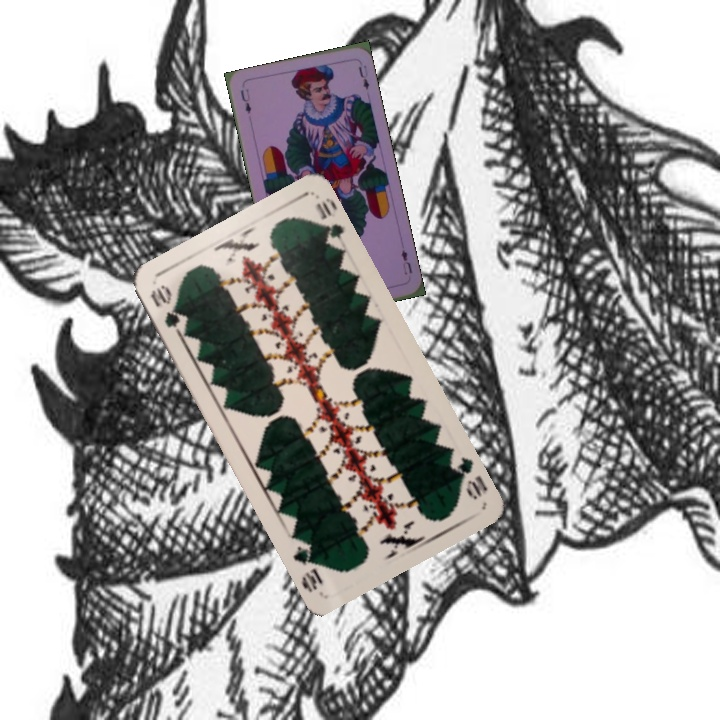EU: (397, 245, 415, 277), (236, 85, 254, 116)
G10: (445, 452, 491, 503), (146, 280, 184, 338)
